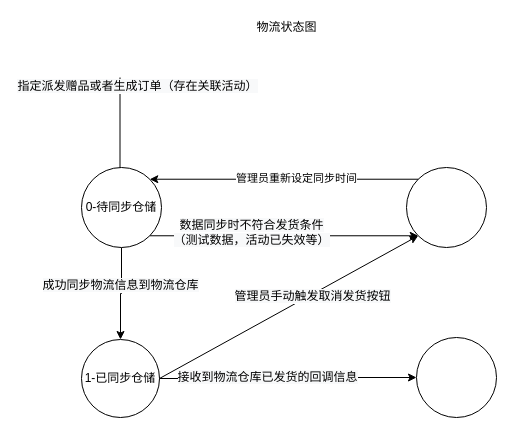
The diagram is 514 pixels wide and 435 high, and some of its shapes have lost their labels. The shapes that lost their labels are listed below. From the top down, each one's centre as x and y in pixels, then its label:
At [446,207]: "-2-已取消发货".
At [456,377]: "2-已发货".
